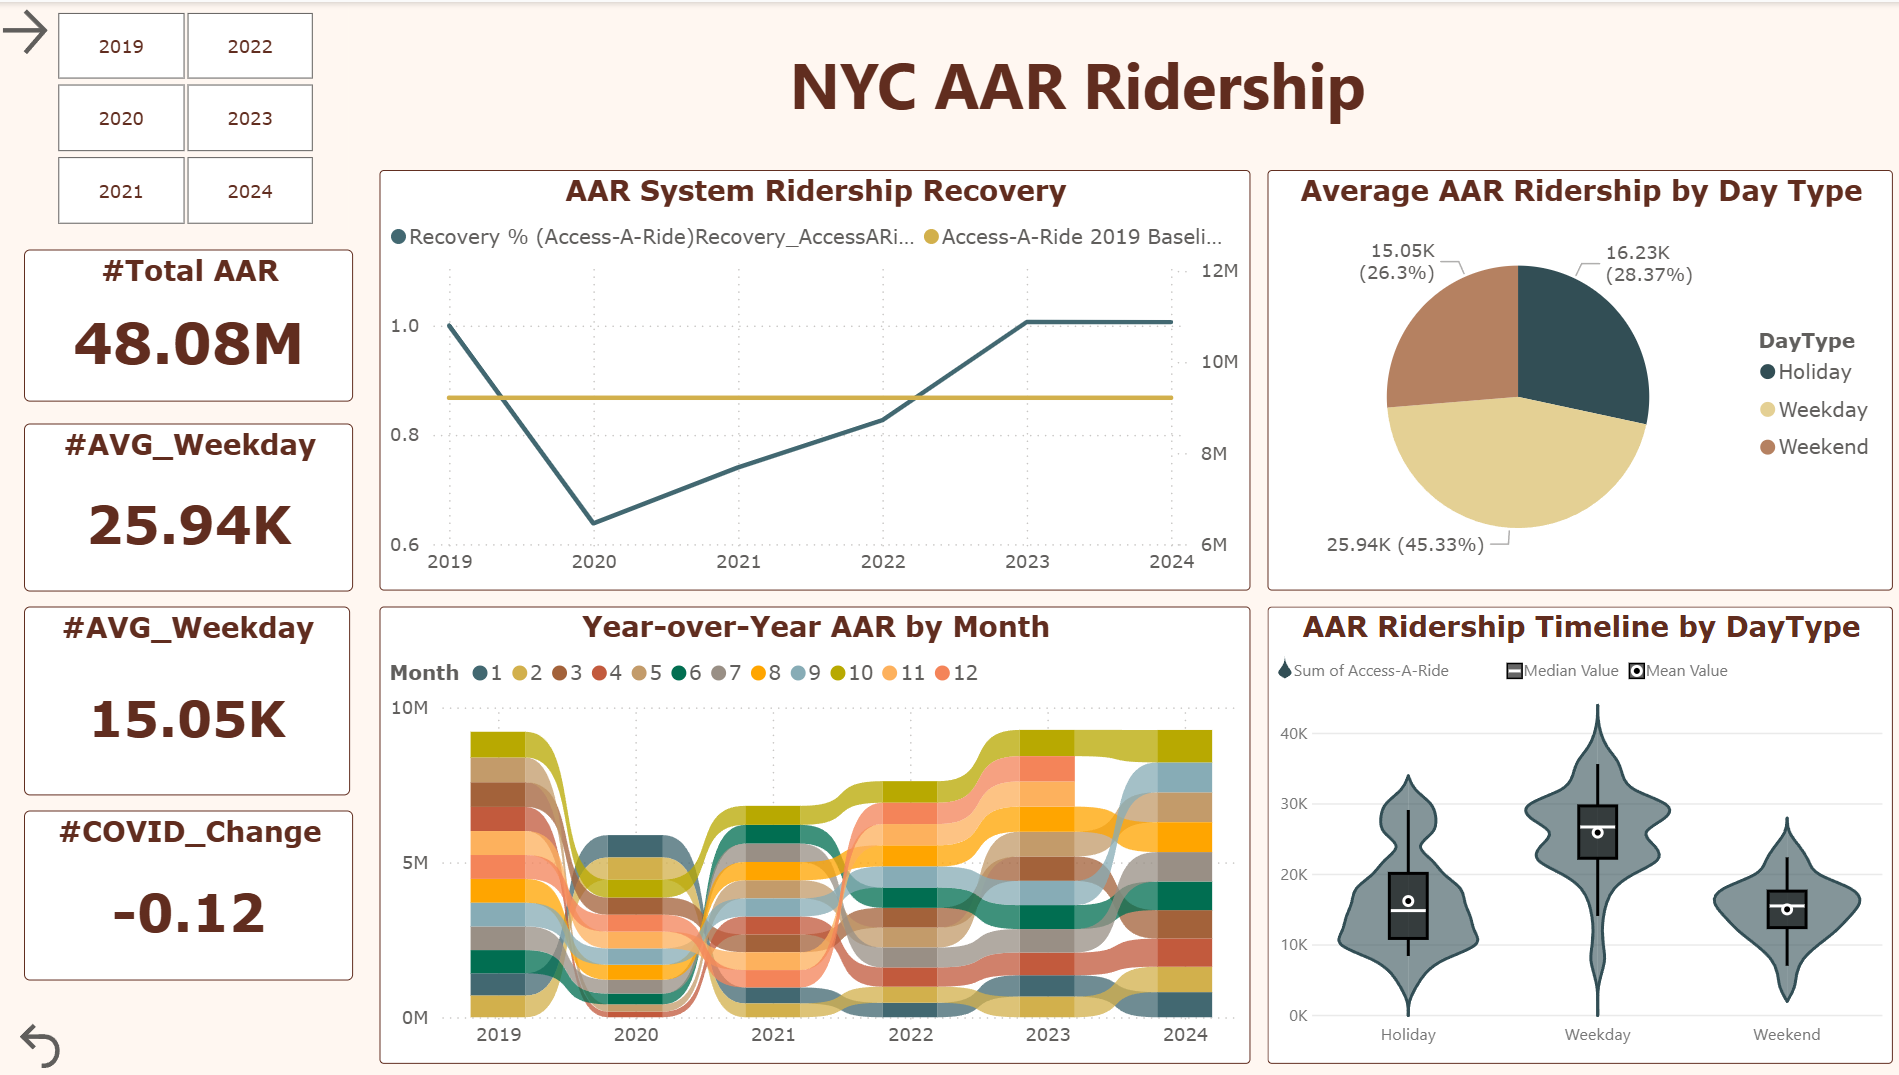

The page's visual inventory and layout, read from the dashboard file:
{"tool":"powerbi","page":{"name":"Access-A-Ride","canvas":[1280,720],"ordinal":5},"visuals":[{"type":"card","title":"#Total AAR","fields":{"Values":["Sum(Final.Access-A-Ride)"]},"box":[19.6,165.6,220.9,101.8],"z":0},{"type":"card","title":"#AVG_Weekday","fields":{"Values":["Final.Avg Weekday Access-A-RideAvg_Weekday_AccessARide"]},"box":[19.6,282.2,220.9,112.9],"z":1000},{"type":"card","title":"#AVG_Weekday","fields":{"Values":["Final.Avg Weekend Access-A-RideAvg_Weekend_AccessARide"]},"box":[19.6,404.9,218.4,126.4],"z":2000},{"type":"card","title":"#COVID_Change","fields":{"Values":["Final.COVID Change % (Access-A-Ride)COVID_Change_Percent_AccessARide"]},"box":[19.6,542.3,220.9,114.1],"z":3000},{"type":"slicer","fields":{"Values":["Final.Date.Variation.Date Hierarchy.Year"]},"box":[17.2,0,220.9,155.8],"z":4000},{"type":"textbox","box":[357.1,19.6,750.9,77.3],"z":5000},{"type":"lineChart","title":"AAR System Ridership Recovery","fields":{"Category":["Final.Date.Variation.Date Hierarchy.Year","Final.Date.Variation.Date Hierarchy.Quarter","Final.Date.Variation.Date Hierarchy.Month","Final.Date.Variation.Date Hierarchy.Day"],"Y2":["Final.Access-A-Ride 2019 BaselineAccessARide_2019_Baseline"],"Y":["Final.Recovery % (Access-A-Ride)Recovery_AccessARide_Percent"]},"box":[258.9,112.9,584.1,282.2],"z":6000},{"type":"pieChart","title":"Average AAR Ridership by Day Type","fields":{"Category":["Final.DayType"],"Y":["Final.Avg Holiday Access-A-RideAvg_Holiday_AccessARide","Final.Avg Weekday Access-A-RideAvg_Weekday_AccessARide","Final.Avg Weekend Access-A-RideAvg_Weekend_AccessARide"]},"box":[854,112.9,419.6,282.2],"z":7000},{"type":"ribbonChart","title":"Year-over-Year AAR by Month","fields":{"Category":["Final.Year"],"Series":["Final.Month"],"Y":["Final.Total Access-A-RideTotal AccessARide"]},"box":[258.9,404.9,584.1,306.8],"z":8000},{"type":"violinPlot4D46EB9EB3A141D9BA2289793175D971","title":"AAR Ridership Timeline by DayType","fields":{"category":["Final.DayType"],"sampling":["Final.Date"],"measure":["Sum(Final.Access-A-Ride)"]},"box":[854,404.9,419.6,306.8],"z":9000},{"type":"actionButton","box":[0,0,100,40],"z":10000},{"type":"actionButton","box":[10.9,680.2,100.1,39.8],"z":11000}]}

Visuals, with their boxes in screenshot pixels (x1, y1, x2, y2), scaled from the page's 1280x720 canvas onto the 1899x1075 screenshot:
"#Total AAR" card: l=29, t=247, r=357, b=399
"#AVG_Weekday" card: l=29, t=421, r=357, b=590
"#AVG_Weekday" card: l=29, t=605, r=353, b=793
"#COVID_Change" card: l=29, t=810, r=357, b=980
slicer - Final.Date.Variation.Date Hierarchy.Year: l=26, t=0, r=353, b=233
textbox: l=530, t=29, r=1644, b=145
"AAR System Ridership Recovery" lineChart: l=384, t=169, r=1251, b=590
"Average AAR Ridership by Day Type" pieChart: l=1267, t=169, r=1890, b=590
"Year-over-Year AAR by Month" ribbonChart: l=384, t=605, r=1251, b=1063
"AAR Ridership Timeline by DayType" violinPlot4D46EB9EB3A141D9BA2289793175D971: l=1267, t=605, r=1890, b=1063
actionButton: l=0, t=0, r=148, b=60
actionButton: l=16, t=1016, r=165, b=1074
